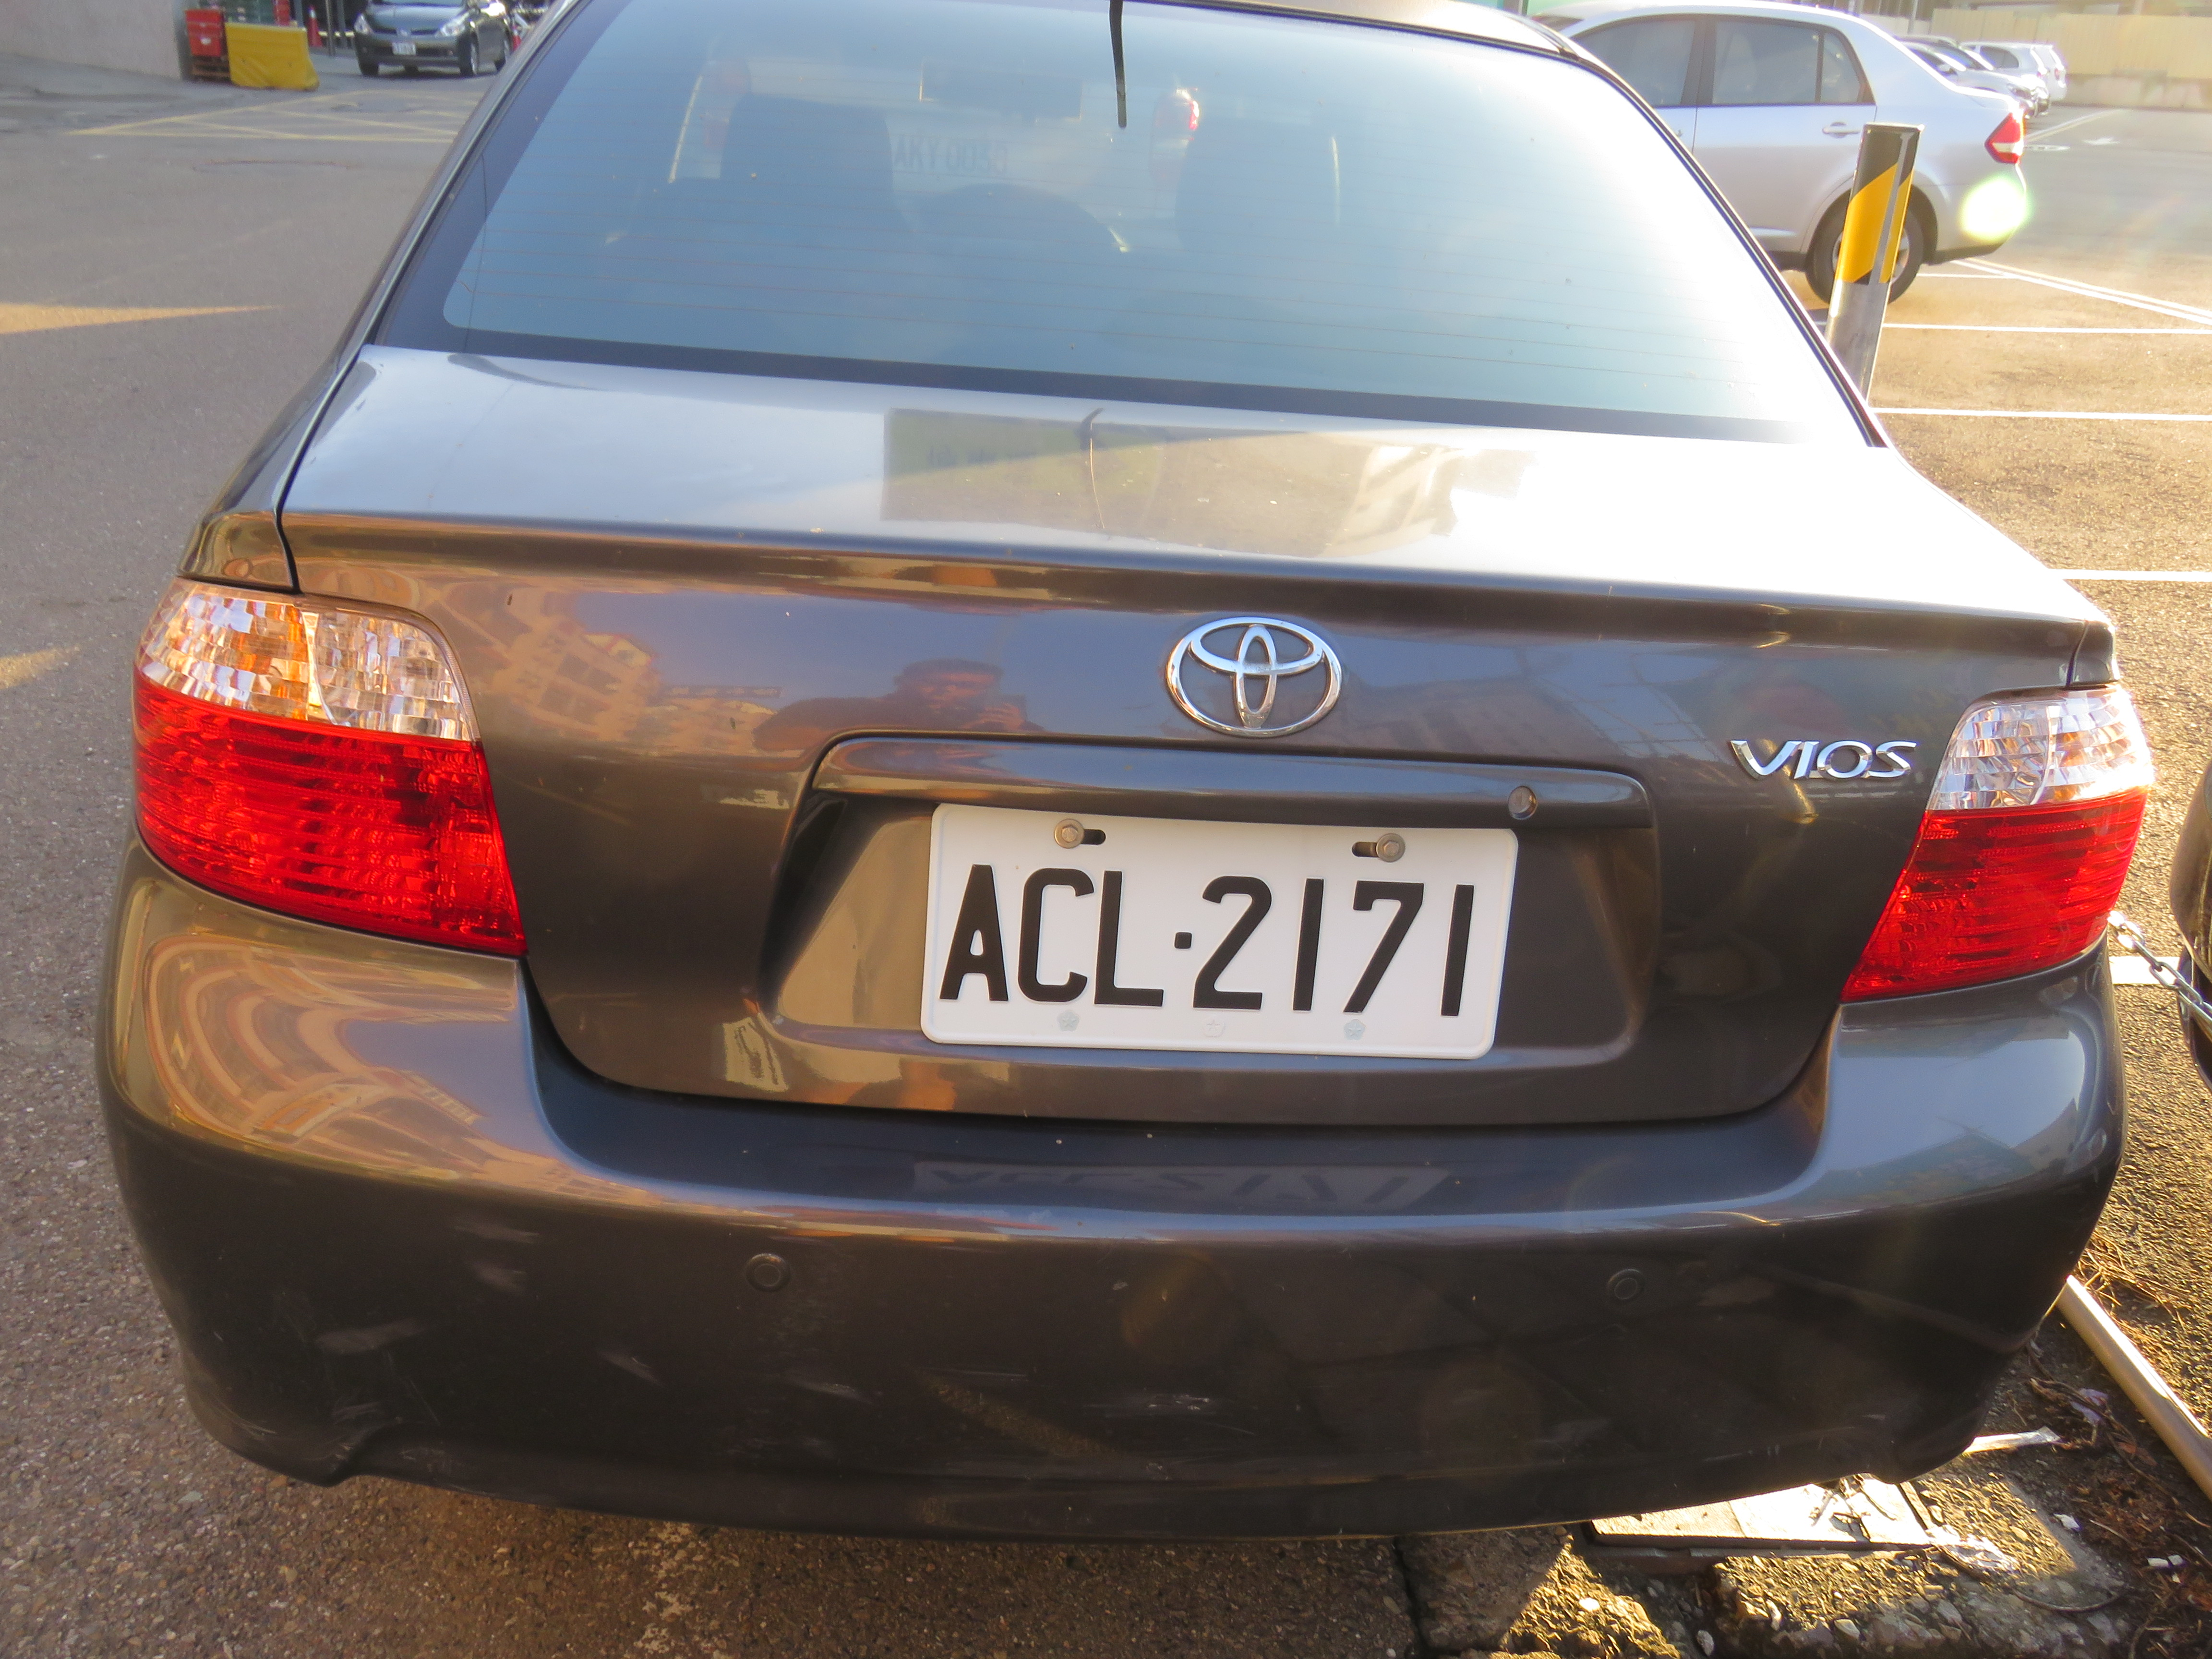car: (94, 0, 2155, 1544)
car_card: (920, 788, 1529, 1075)
